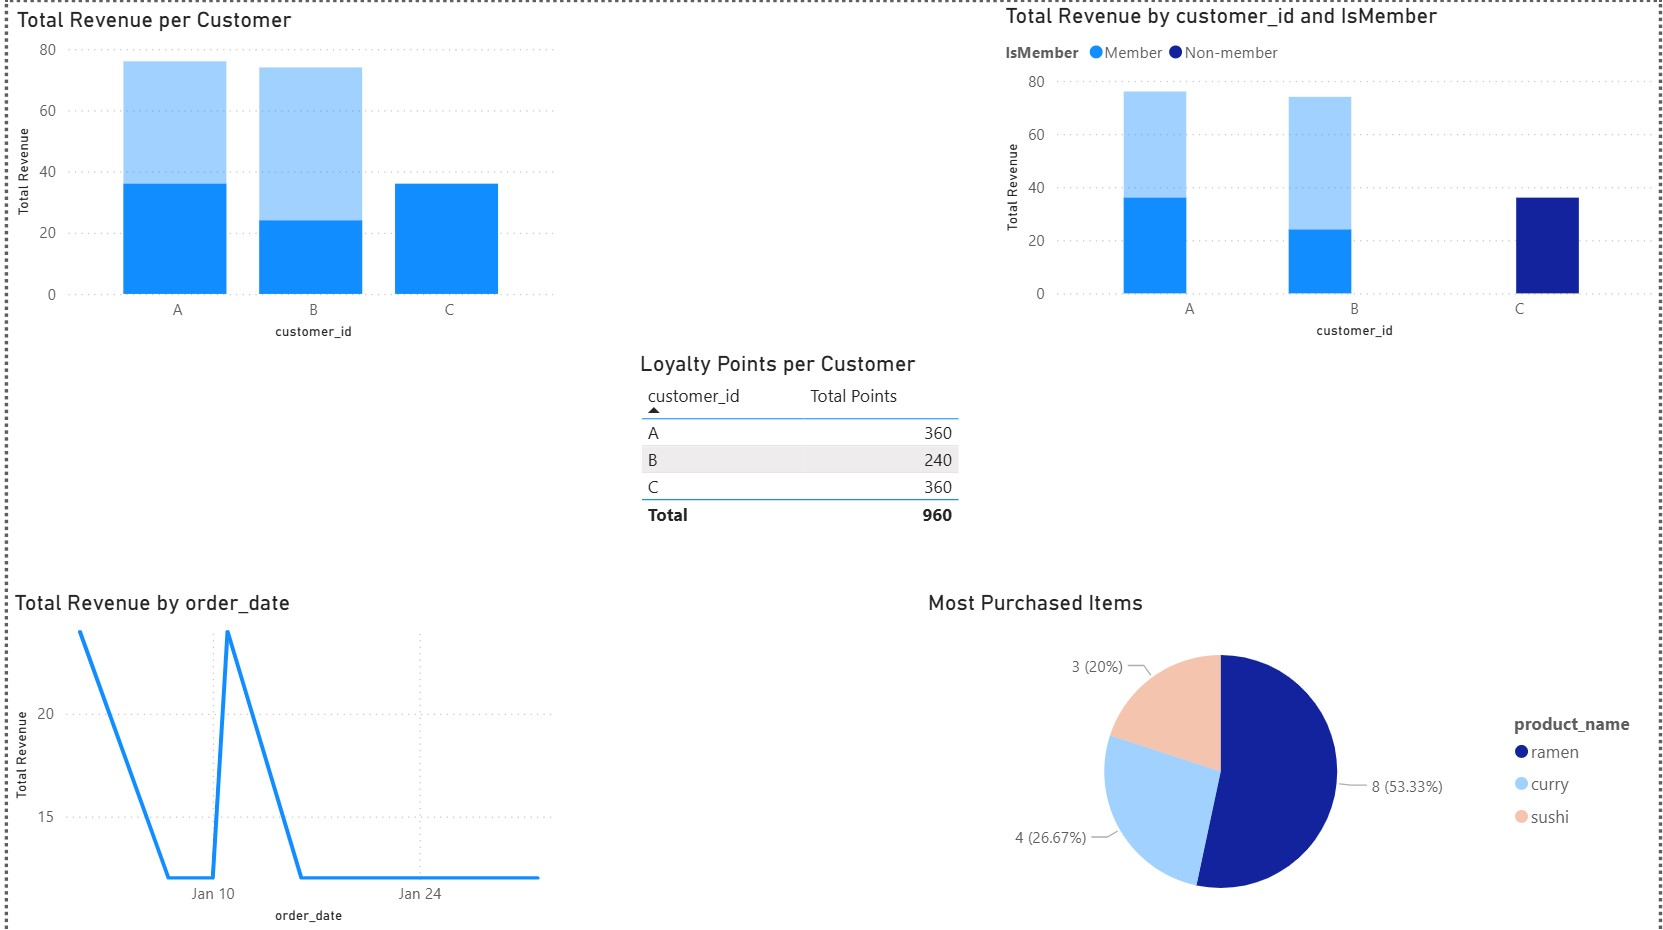

What the dashboard file says about the page in this screenshot:
{"tool":"powerbi","page":{"name":"Page 1","canvas":[1280,720],"ordinal":0},"visuals":[{"type":"pieChart","title":"Most Purchased Items","fields":{"Category":["menu.product_name"],"Y":["CountNonNull(sales.product_id)"]},"box":[708.6,455.7,571.4,264.3],"z":3000},{"type":"clusteredColumnChart","title":"Total Revenue per Customer","fields":{"Category":["sales.customer_id"],"Y":["sales.Total Revenue"]},"box":[1.4,2.9,430,262.9],"z":3005},{"type":"clusteredColumnChart","fields":{"Y":["sales.Total Revenue"],"Series":["sales.IsMember"],"Category":["sales.customer_id"]},"box":[768.6,0,511.4,265.7],"z":3006},{"type":"lineChart","fields":{"Category":["sales.order_date"],"Y":["sales.Total Revenue"]},"box":[0,455.7,432.9,264.3],"z":3007},{"type":"tableEx","title":"Loyalty Points per Customer","fields":{"Values":["sales.customer_id","sales.Total Points"]},"box":[485.7,270,257.1,178.6],"z":3008}]}

Visuals, with their boxes in screenshot pixels (x1, y1, x2, y2), scaled from the page's 1280x720 canvas onto the 1663x930 screenshot:
"Most Purchased Items" pieChart: {"x1": 921, "y1": 589, "x2": 1662, "y2": 929}
"Total Revenue per Customer" clusteredColumnChart: {"x1": 2, "y1": 4, "x2": 560, "y2": 343}
clusteredColumnChart - sales.Total Revenue x sales.IsMember: {"x1": 999, "y1": 0, "x2": 1662, "y2": 343}
lineChart - sales.order_date x sales.Total Revenue: {"x1": 0, "y1": 589, "x2": 562, "y2": 929}
"Loyalty Points per Customer" tableEx: {"x1": 631, "y1": 349, "x2": 965, "y2": 579}
